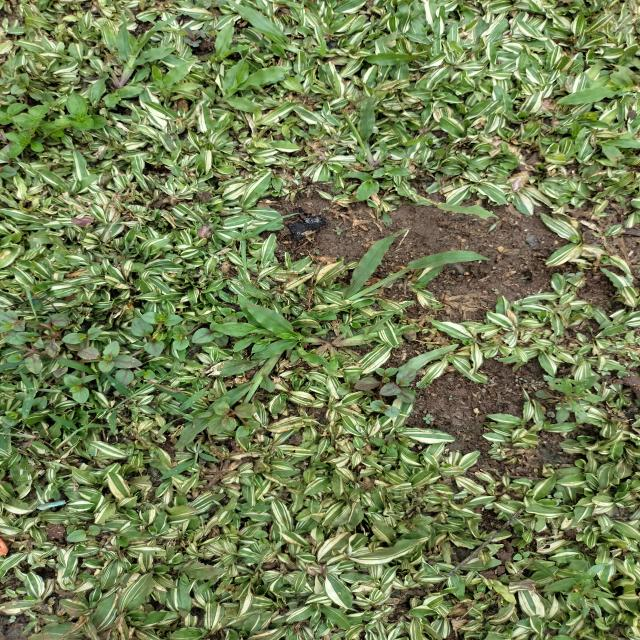bayi: (332, 225, 344, 235), (567, 271, 585, 277), (312, 247, 321, 254), (518, 377, 528, 383), (514, 373, 519, 384), (490, 286, 499, 292), (463, 244, 471, 250), (447, 394, 453, 401), (435, 142, 441, 149), (322, 207, 331, 211), (474, 412, 479, 418), (446, 378, 454, 380)
buah daun: (176, 21, 220, 50)
gingseng jawa: (530, 559, 616, 621), (534, 371, 606, 428)
rambat atas: (105, 365, 189, 414), (156, 434, 222, 482), (45, 411, 114, 452), (16, 370, 64, 424), (235, 211, 301, 244), (155, 385, 208, 422)
rambat bawah: (341, 225, 493, 308), (176, 352, 285, 452), (209, 292, 329, 363), (104, 10, 187, 91), (226, 0, 325, 65), (333, 96, 392, 170), (331, 300, 421, 348), (215, 62, 292, 115), (554, 62, 640, 107), (150, 58, 206, 103), (212, 14, 256, 65), (326, 52, 430, 68), (338, 170, 382, 202), (591, 138, 640, 163), (325, 341, 353, 378), (102, 85, 145, 108), (289, 344, 331, 367)
ungu tunggang: (0, 308, 246, 405), (353, 365, 419, 420), (65, 515, 103, 542)
